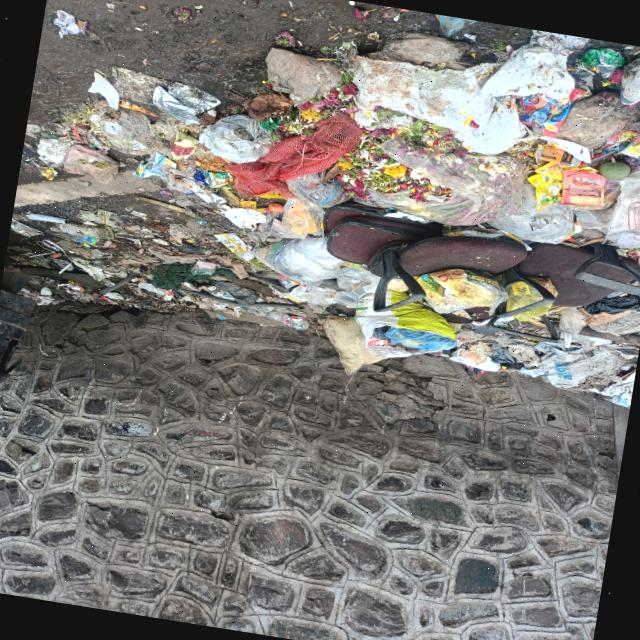garbage: (59, 0, 640, 397)
